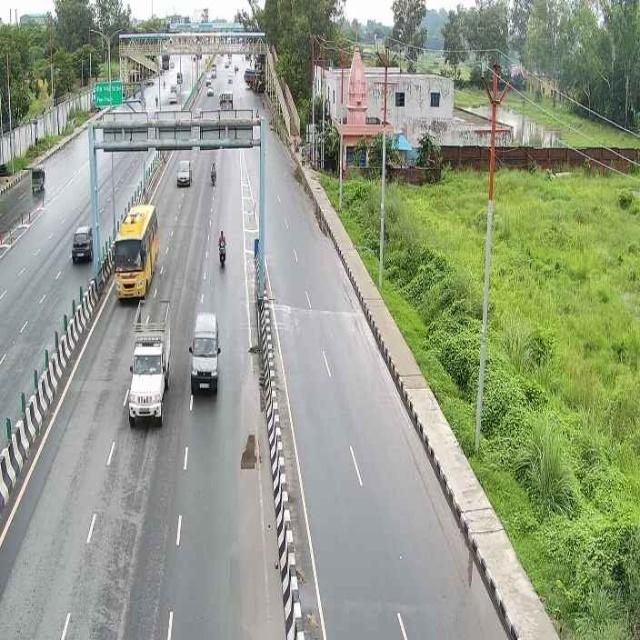car: (123, 322, 171, 430), (186, 301, 223, 407), (67, 221, 96, 266), (172, 152, 193, 189)
